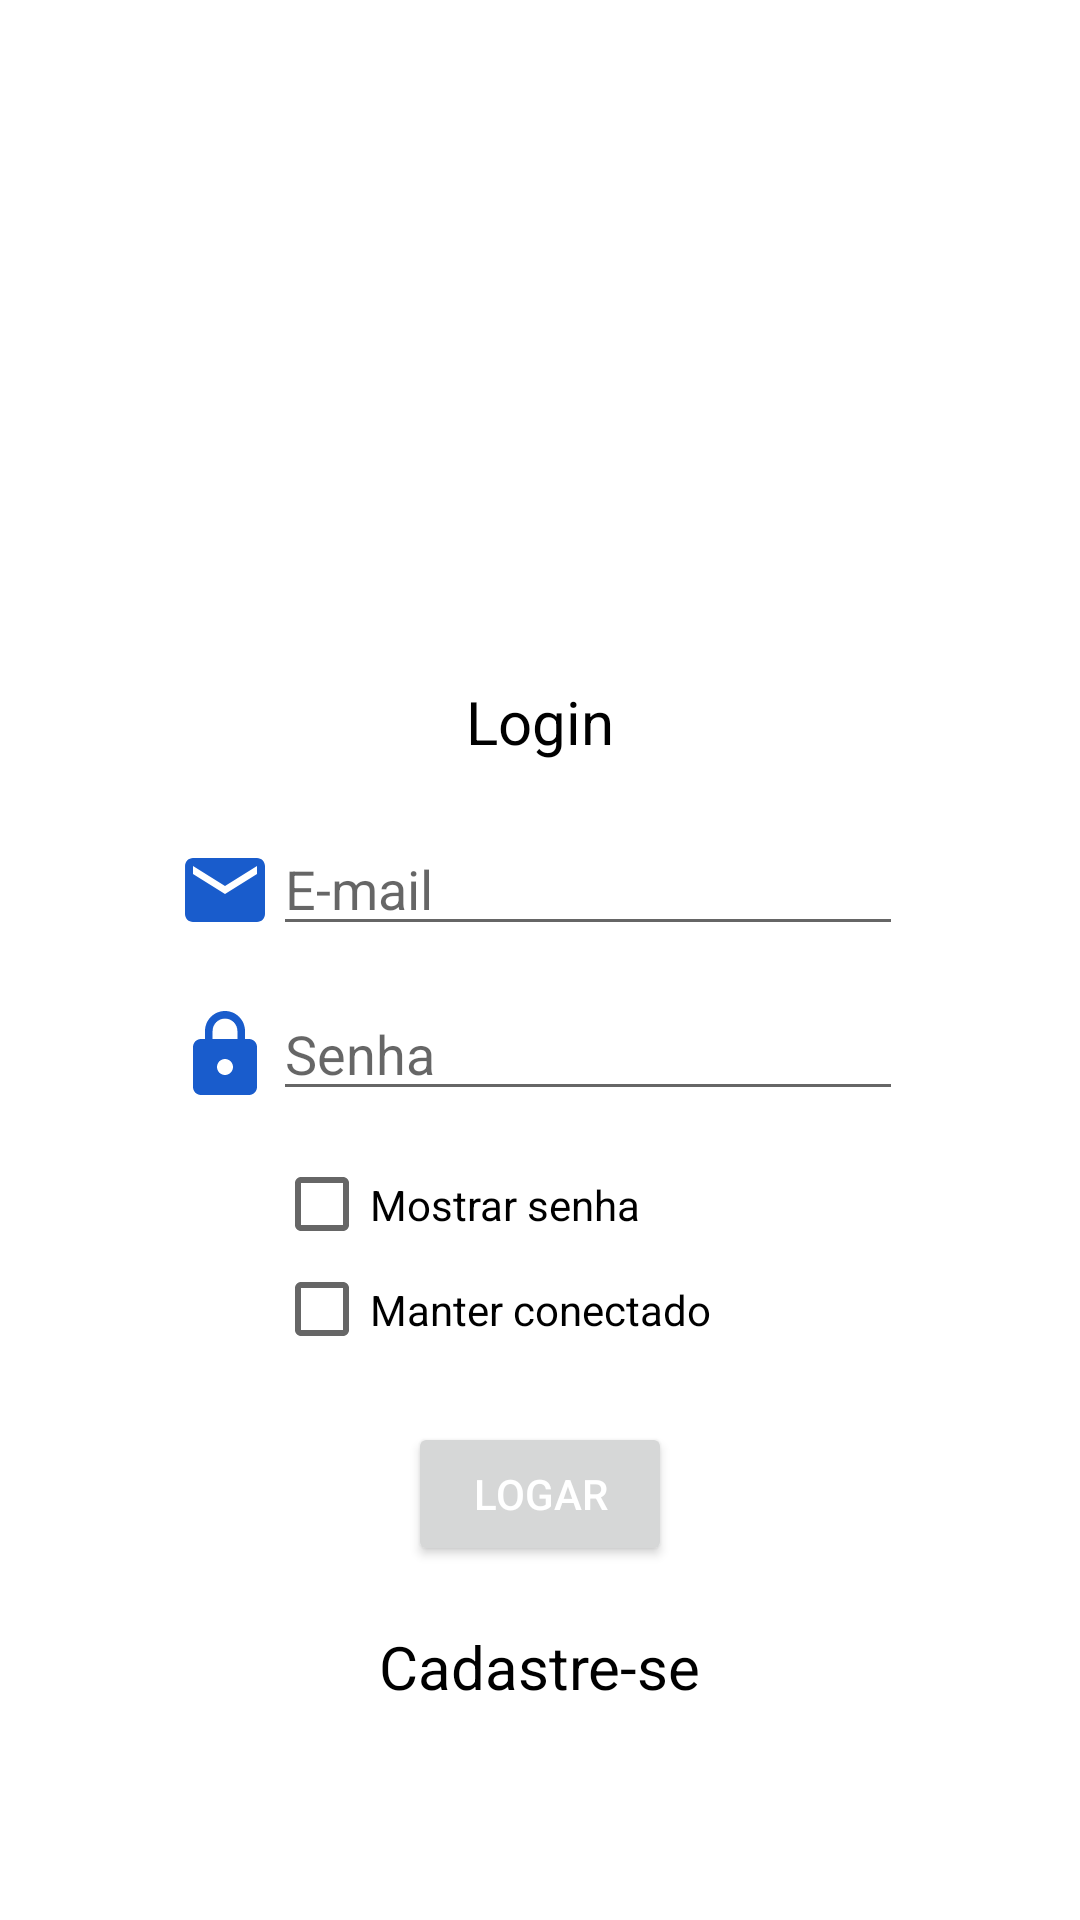

Icons on this 1080px×1920px Android screen, each with the point to tap as (x,y):
cadeado: (225,1053)
